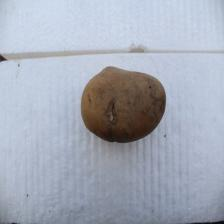Diseased-fungal potato: (78, 64, 167, 148)
